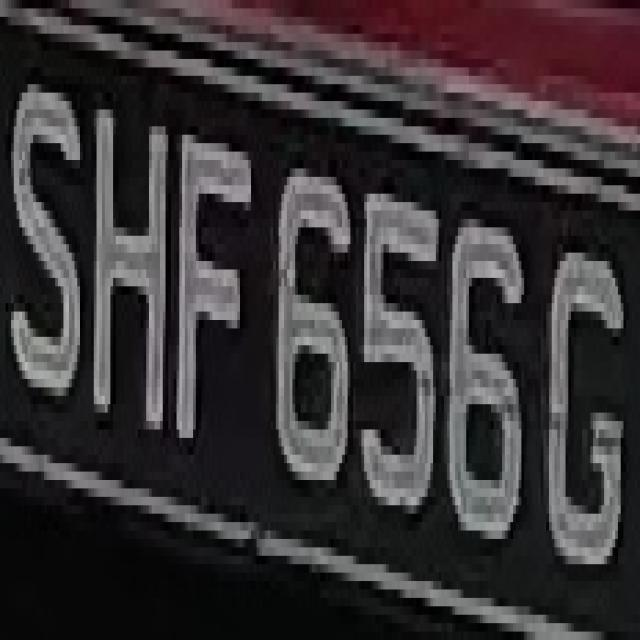5: (351, 152, 442, 539)
6: (270, 118, 353, 530), (447, 194, 527, 556)
F: (174, 126, 251, 480)
G: (535, 219, 624, 581)
H: (83, 67, 171, 438)
S: (14, 67, 88, 438)
